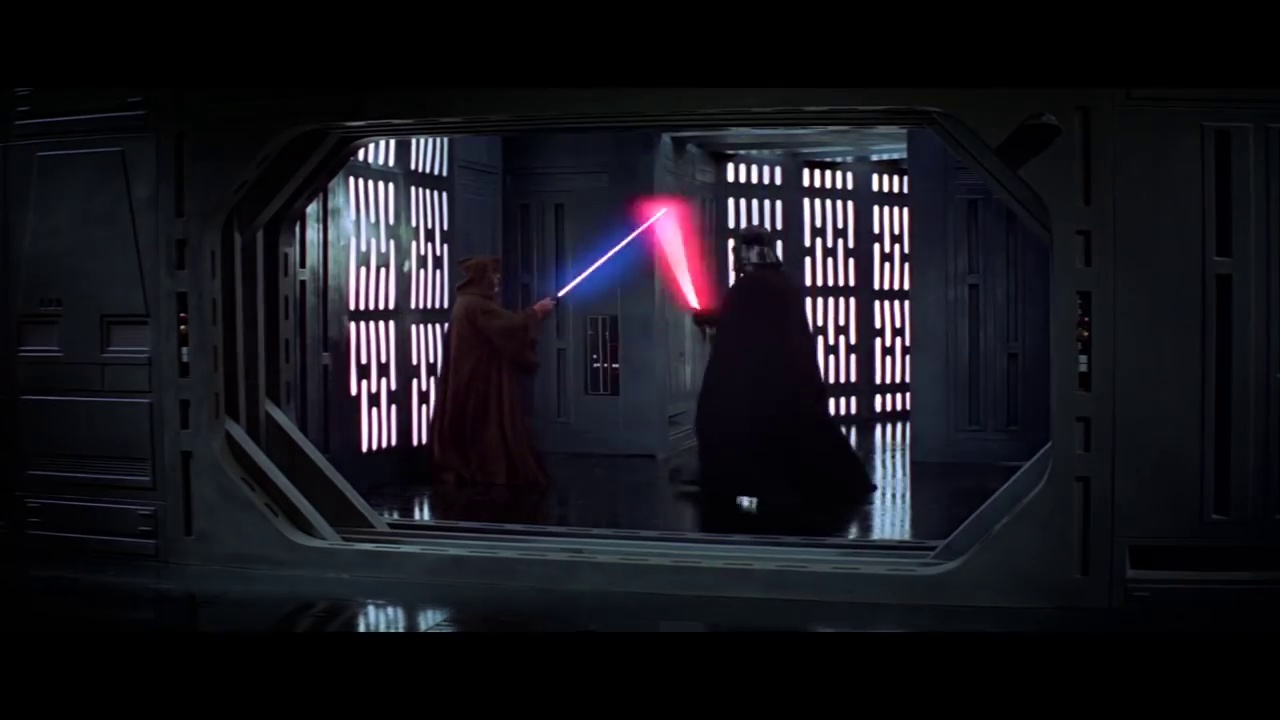lightsaber: (534, 206, 666, 321), (632, 193, 709, 314)
